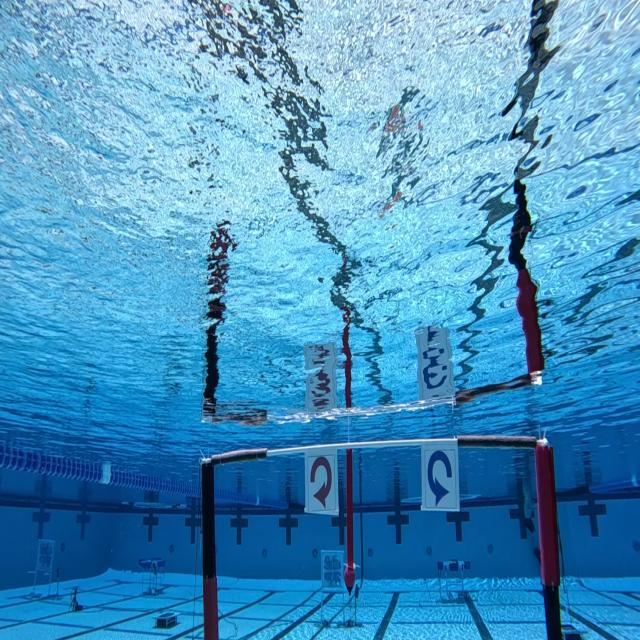blue_side: (418, 443, 461, 514)
red_side: (304, 452, 342, 518)
